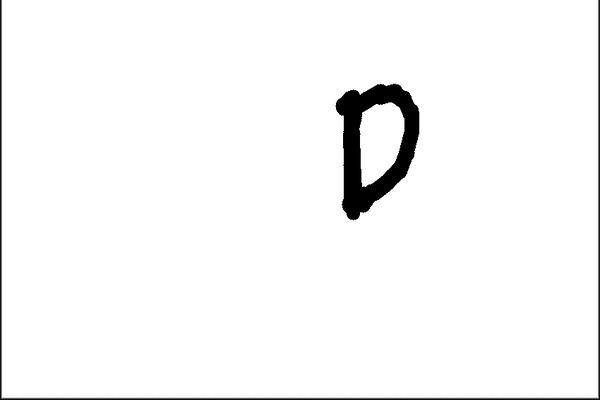D: (328, 77, 428, 226)
